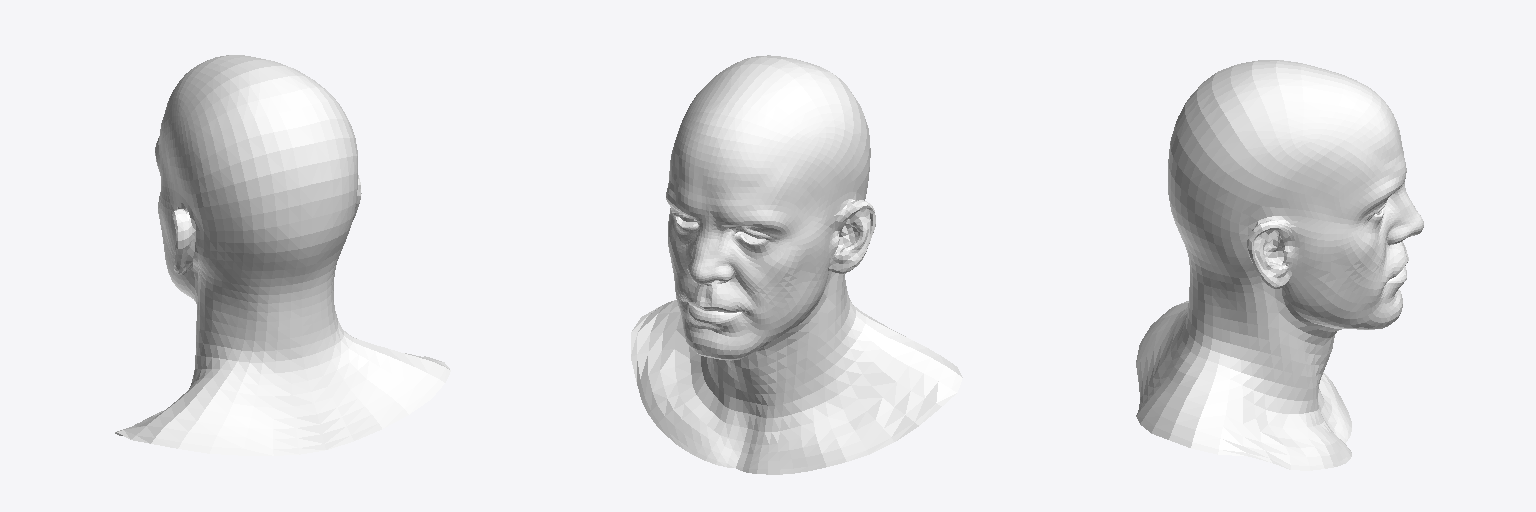
The model's file is head.obj.
3 views of the same model, side by side, from view 1: azimuth 30°, elevation 25°; view 2: azimuth 150°, elevation 25°; view 3: azimuth 270°, elevation 25° (orthographic).
Parts seen in each view (by area): view 1: mrus_head_head; view 2: mrus_head_head; view 3: mrus_head_head.
Boxes of the visible parts, x1,y1,x2,y2 form: mrus_head_head: [115, 55, 450, 455]; mrus_head_head: [631, 55, 962, 474]; mrus_head_head: [1136, 60, 1423, 470].
Bounding box in the file's own units: 0.3126 × 0.3582 × 0.2478.